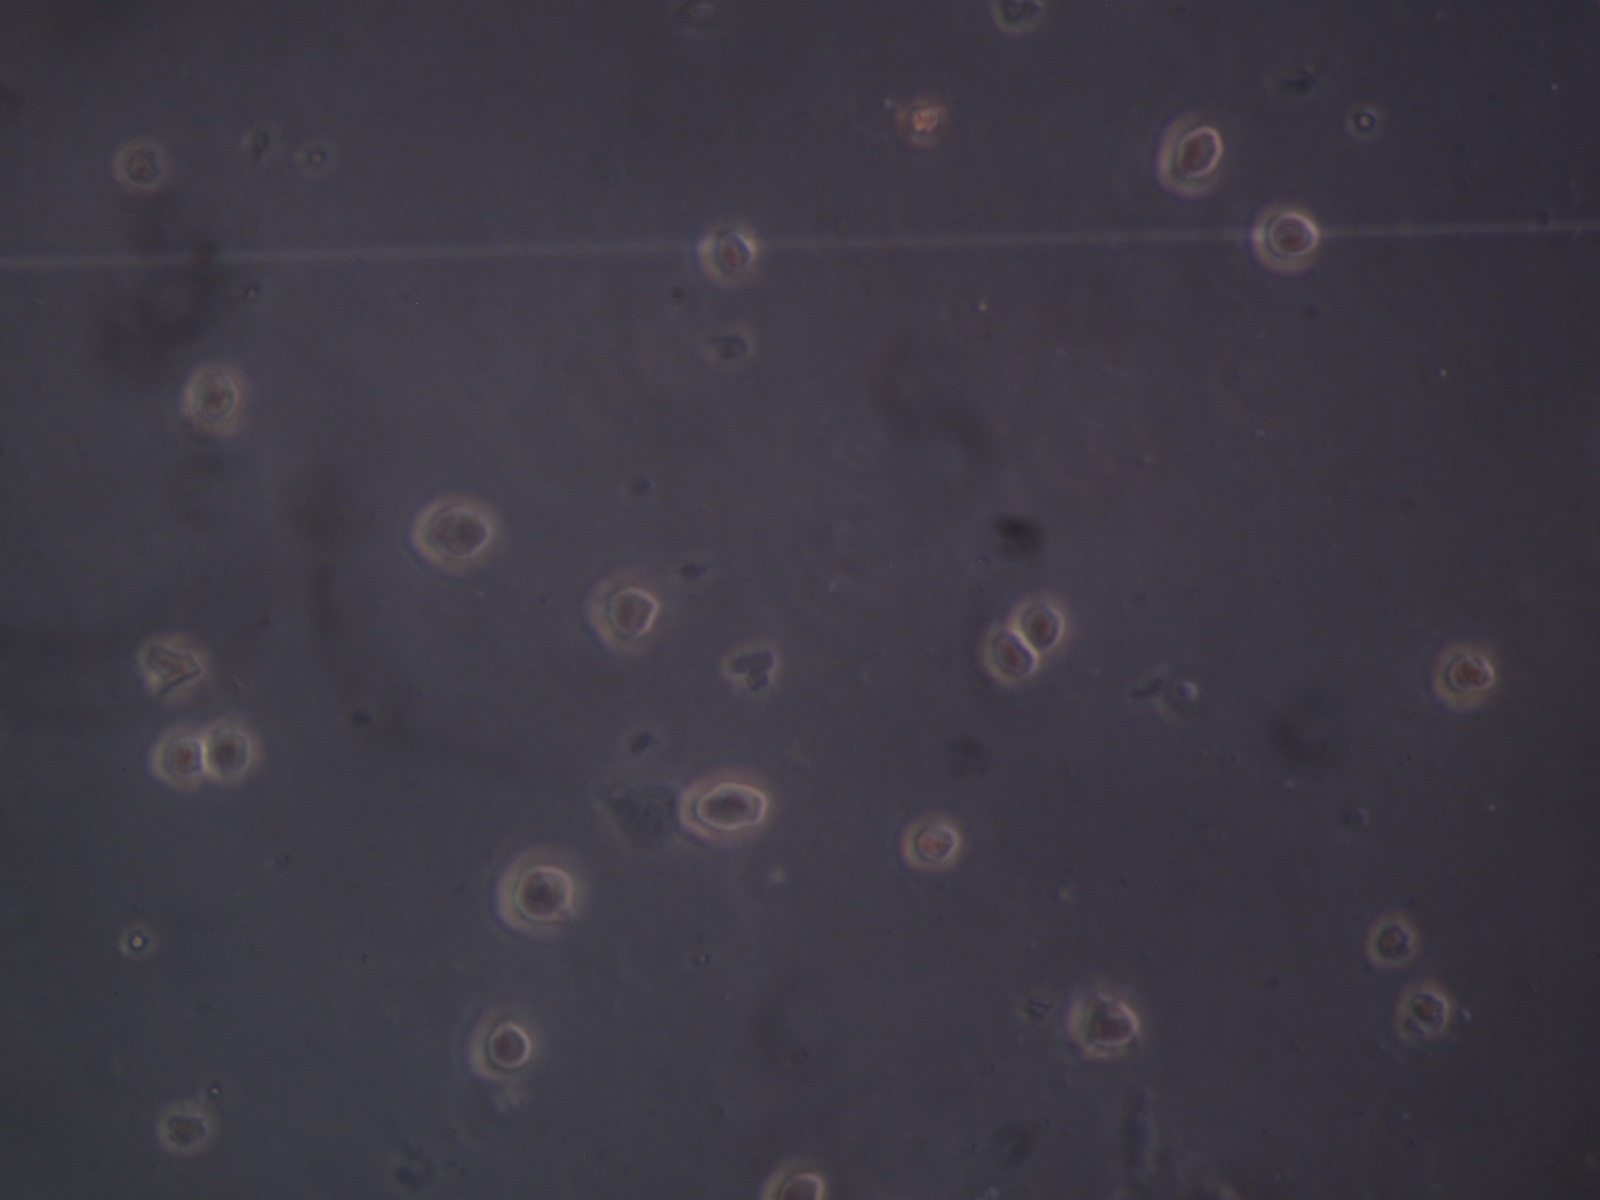hemo: (495, 845, 586, 942), (680, 770, 774, 843), (414, 492, 496, 575), (585, 568, 661, 655), (184, 358, 248, 440), (1158, 118, 1225, 197), (1070, 988, 1141, 1059), (467, 1005, 532, 1083), (1254, 200, 1319, 275), (1432, 642, 1495, 713), (1009, 591, 1071, 658), (981, 621, 1041, 686), (205, 715, 260, 783), (149, 726, 205, 789), (700, 226, 757, 285), (900, 816, 959, 872), (1398, 984, 1451, 1042), (113, 137, 168, 193), (157, 1100, 213, 1155), (1364, 913, 1416, 966), (758, 1158, 824, 1200), (991, 1, 1044, 34)
